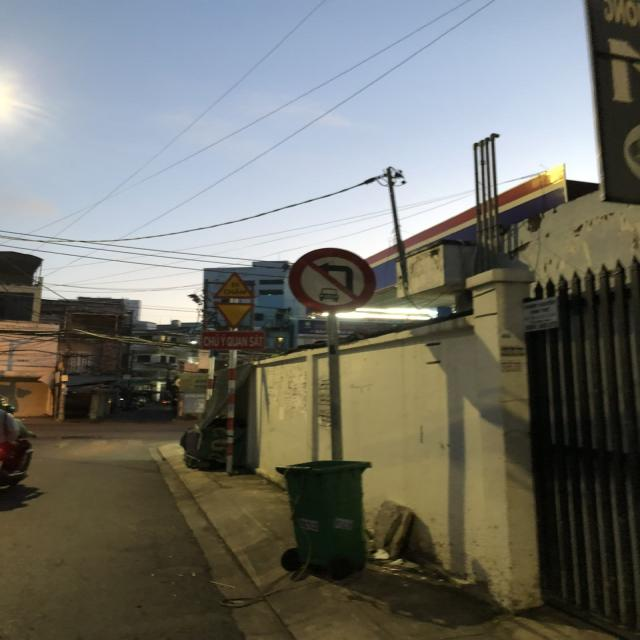Bien bao cam xe o to re trai: (282, 242, 386, 316)
Bien bao di cham: (213, 268, 256, 300)
Bien bao giao nhau voi duong uu tien: (210, 300, 256, 330)
